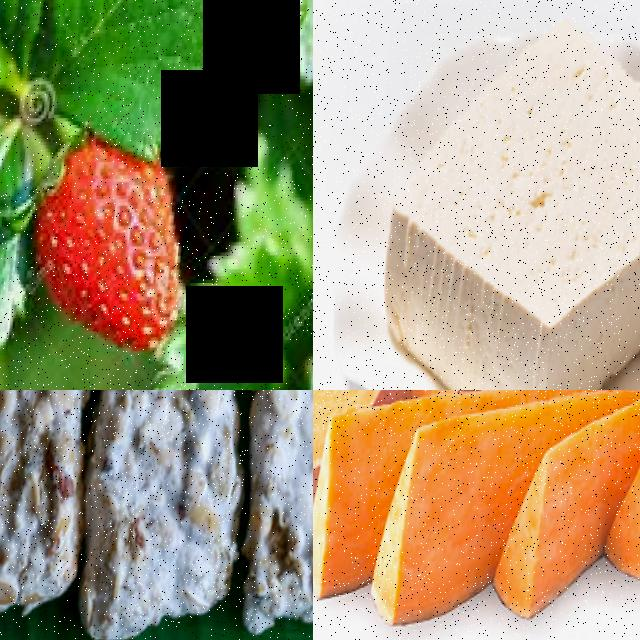strawberry: (29, 159, 185, 347)
tempeh: (89, 390, 275, 628), (0, 390, 114, 622), (239, 390, 313, 614)
tofu: (386, 66, 640, 382)
